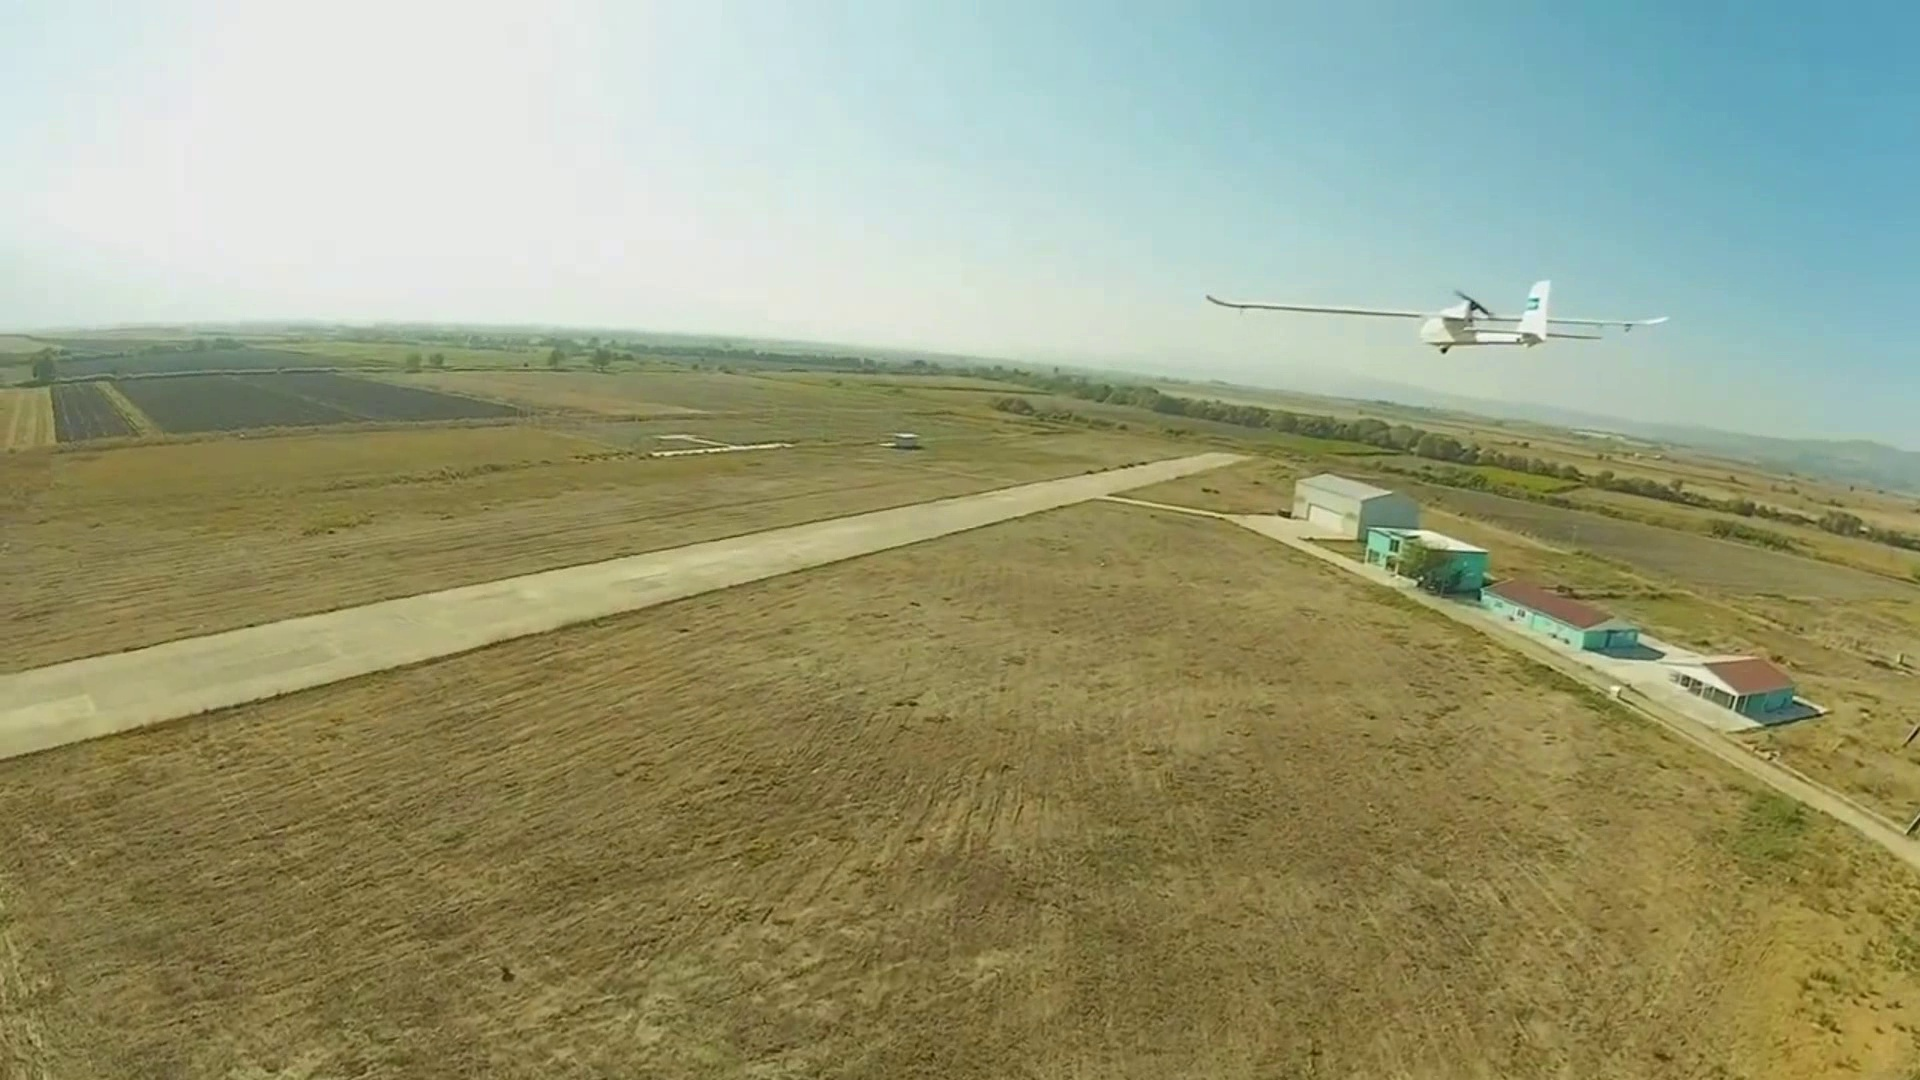airplane: (1204, 275, 1678, 352)
